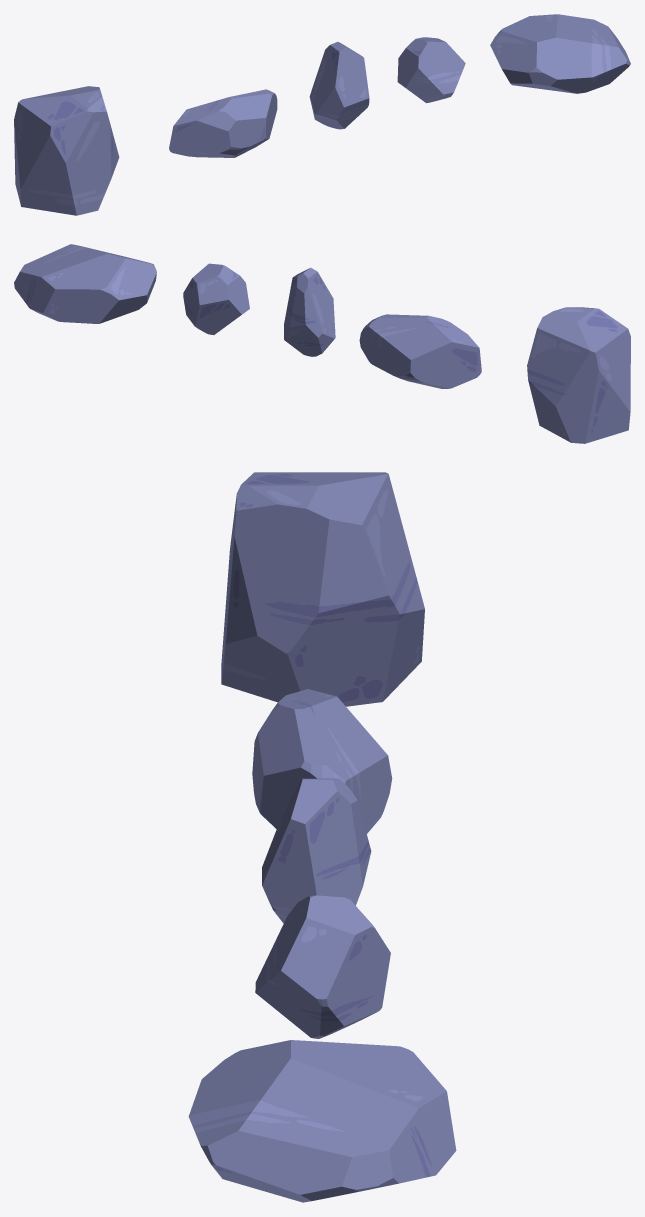
Rendered from Rock.obj.
The picture shows the model from 3 angles, top to bottom: view 1: azimuth 30°, elevation 25°; view 2: azimuth 150°, elevation 25°; view 3: azimuth 270°, elevation 25°; orthographic projection. The views are drawn at different scales.
Parts seen in each view (by area): view 1: Rock_1_Rock_1_Material, Rock_5_Rock_5_Material, Rock_4_Rock_4_Material, Rock_2_Rock_2_Material, Rock_3_Rock_3_Material; view 2: Rock_1_Rock_1_Material, Rock_5_Rock_5_Material, Rock_4_Rock_4_Material, Rock_2_Rock_2_Material, Rock_3_Rock_3_Material; view 3: Rock_1_Rock_1_Material, Rock_5_Rock_5_Material, Rock_3_Rock_3_Material, Rock_4_Rock_4_Material, Rock_2_Rock_2_Material.
Part boxes in pixels (bbox=[...]): Rock_1_Rock_1_Material: bbox=[14, 86, 119, 215]; Rock_5_Rock_5_Material: bbox=[490, 14, 630, 93]; Rock_4_Rock_4_Material: bbox=[169, 89, 277, 157]; Rock_2_Rock_2_Material: bbox=[309, 42, 369, 129]; Rock_3_Rock_3_Material: bbox=[397, 37, 465, 103]; Rock_1_Rock_1_Material: bbox=[527, 307, 630, 443]; Rock_5_Rock_5_Material: bbox=[14, 244, 156, 323]; Rock_4_Rock_4_Material: bbox=[359, 314, 481, 388]; Rock_2_Rock_2_Material: bbox=[284, 267, 335, 356]; Rock_3_Rock_3_Material: bbox=[183, 263, 249, 334]; Rock_1_Rock_1_Material: bbox=[221, 472, 424, 706]; Rock_5_Rock_5_Material: bbox=[188, 1040, 456, 1202]; Rock_3_Rock_3_Material: bbox=[255, 895, 390, 1038]; Rock_4_Rock_4_Material: bbox=[252, 689, 392, 833]; Rock_2_Rock_2_Material: bbox=[262, 778, 371, 923].
Bounding box in the file's own units: 18.99 × 2.99 × 3.65.
